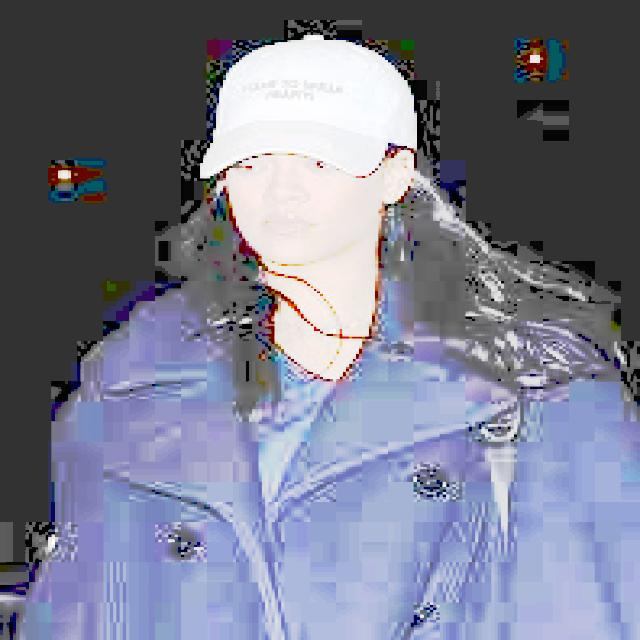TOPI: (191, 30, 417, 176)
